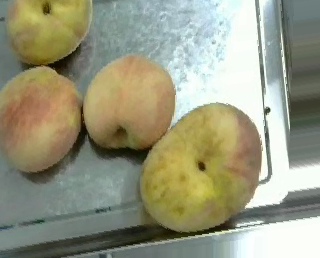Peach: (141, 100, 261, 234), (0, 65, 82, 174), (85, 53, 175, 150), (6, 0, 91, 65)
